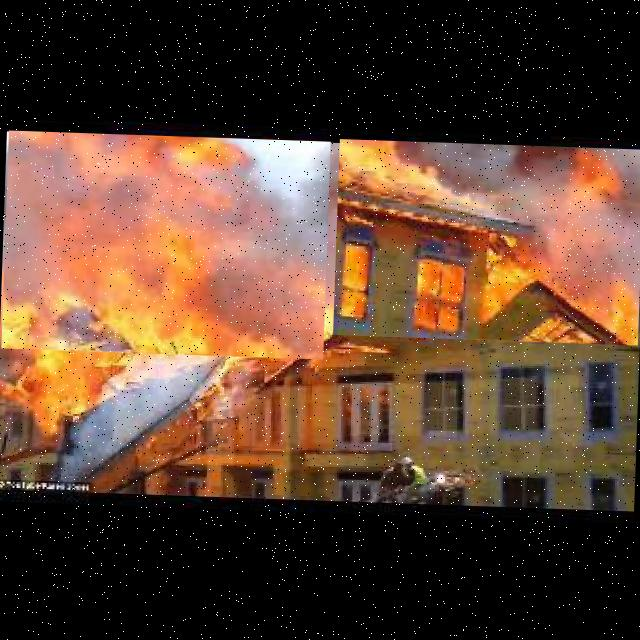fire: (1, 130, 330, 359), (332, 138, 640, 345)
